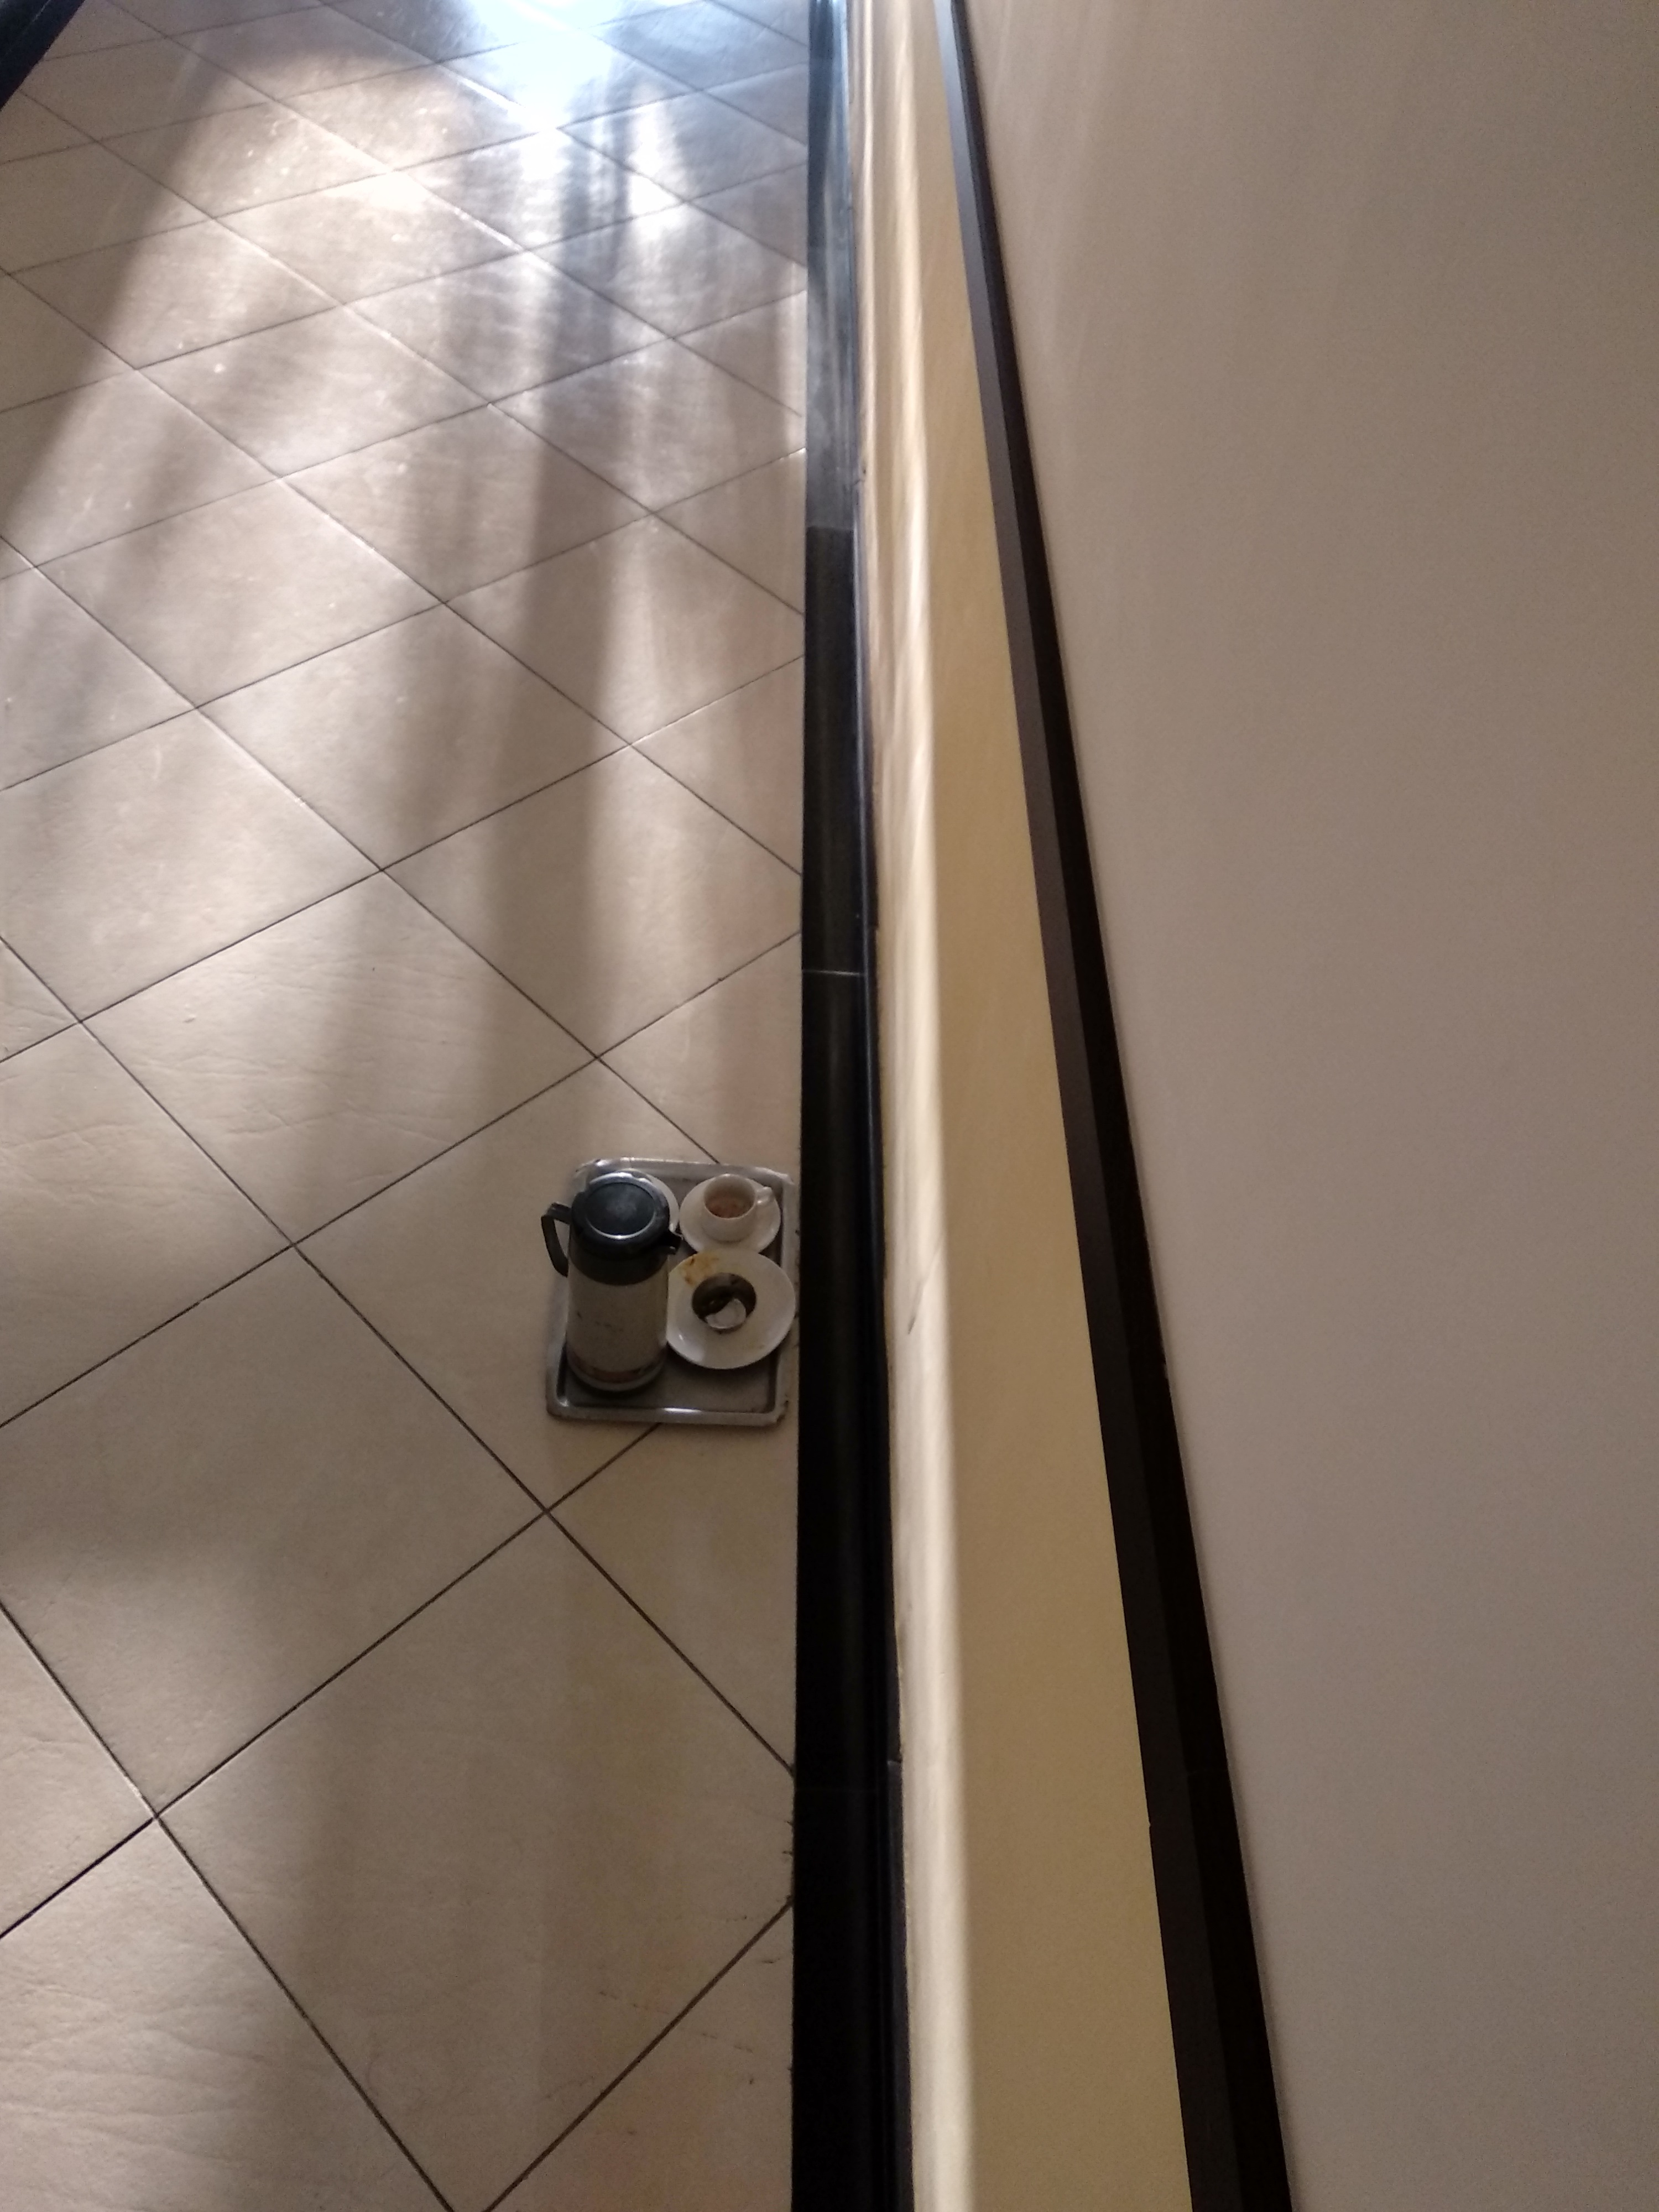CUP: (676, 1252, 791, 1362), (680, 1148, 784, 1252)
JUG: (538, 1148, 674, 1414)
